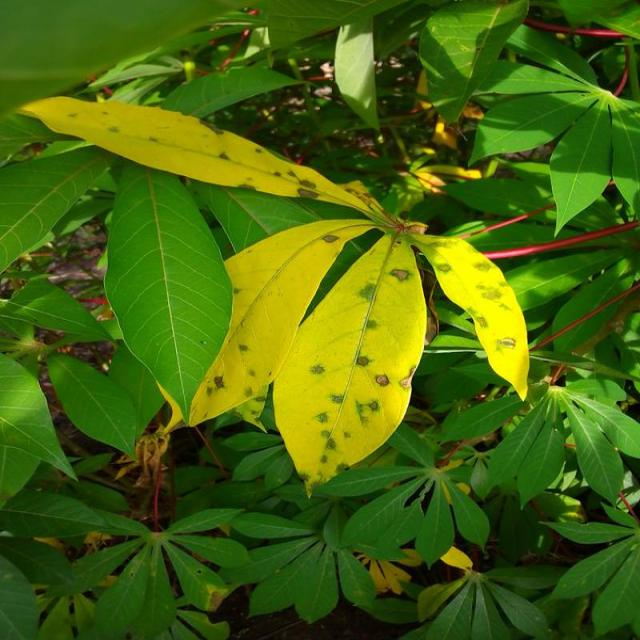cassava leaf: (12, 91, 533, 496), (272, 228, 429, 498), (104, 159, 235, 430)
